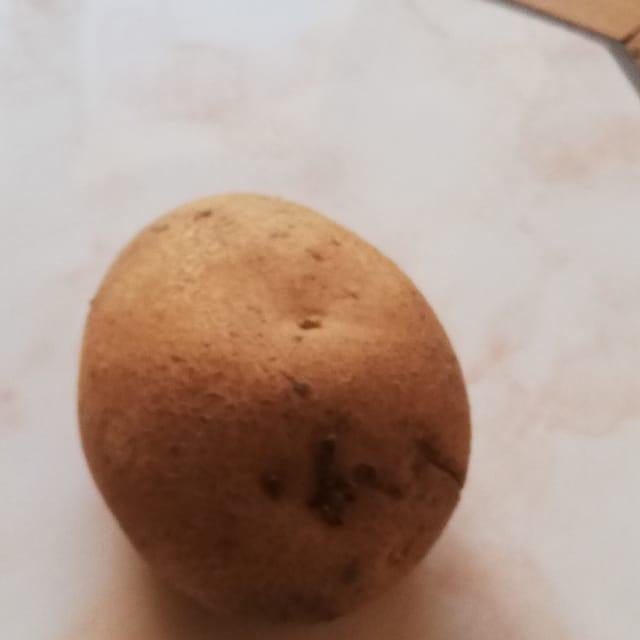potato: (68, 175, 485, 640)
